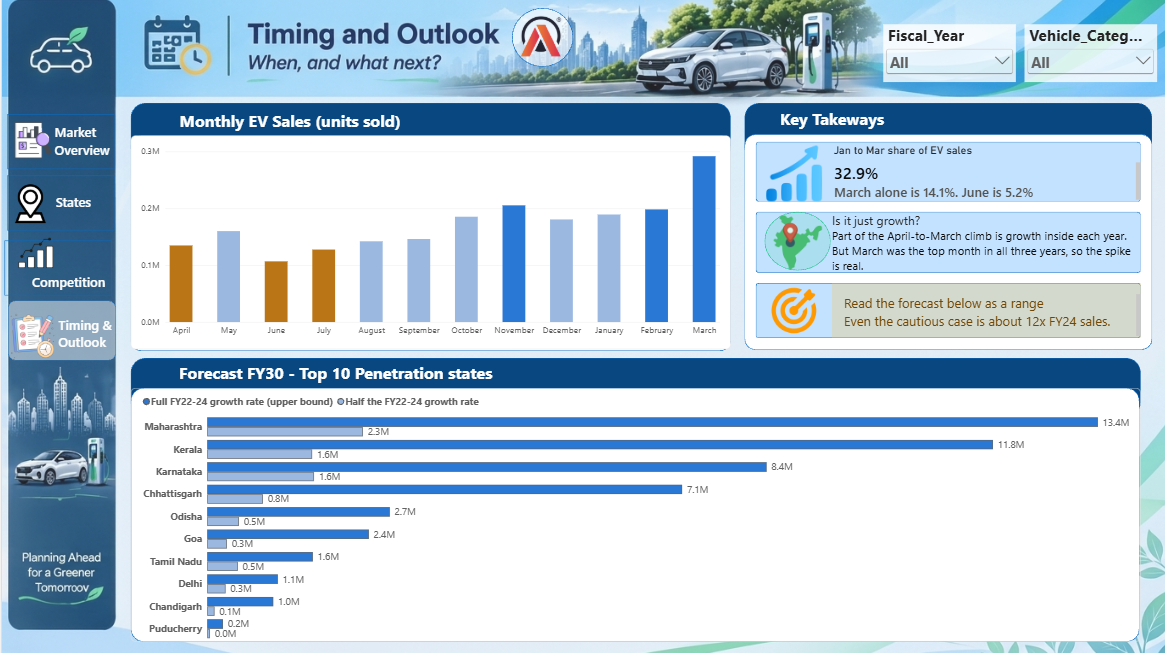

This screenshot's page, from the dashboard's own definition file:
{"tool":"powerbi","page":{"name":"Timing & Outlook","canvas":[1920,1080],"ordinal":8},"visuals":[{"type":"shape","box":[1222.6,172.9,671,96.7],"z":0},{"type":"shape","box":[212,592.8,1663.1,96.7],"z":1000},{"type":"shape","box":[212,172.9,988,96.7],"z":2000},{"type":"shape","box":[211.9,227.2,988.1,354.9],"z":3000},{"type":"columnChart","fields":{"Category":["dim_date.month name"],"Y":["key_measures.Ev_sales"]},"box":[212,226.4,988,352],"z":4000},{"type":"shape","box":[212,642.2,1661.1,417.8],"z":5000},{"type":"clusteredBarChart","title":"2030 EV sales, top 10 penetration states: two growth scenarios","fields":{"Category":["sales_by_state.state"],"Y":["key_measures.EV Forecast FY30","key_measures.EV Forecast FY30 (Conservative)"]},"box":[212,642.2,1663.1,417.8],"z":6000},{"type":"textbox","box":[197.6,183.2,553.7,47.3],"z":7000},{"type":"textbox","box":[209.9,599,679.2,47.3],"z":8000},{"type":"shape","box":[1223,224.7,671.5,354.9],"z":9000},{"type":"textbox","box":[1206.2,181.1,321.1,47.3],"z":10000},{"type":"shape","box":[1241.2,236.7,634,98.8],"z":11000},{"type":"shape","box":[1241.2,352,634,100.9],"z":12000},{"type":"shape","box":[1241.2,469.3,634,90.6],"z":13000},{"type":"image","box":[1241.2,475.5,125.6,78.2],"z":14000},{"type":"image","box":[1222.6,358.1,175,90.6],"z":15000},{"type":"shape","box":[1255.6,352,109.1,96.7],"z":16000},{"type":"image","box":[1243.4,242.6,122.6,91.9],"z":17000},{"type":"textbox","title":"Jan to Mar share of EV sales","box":[1364.7,234.6,510.5,98.8],"z":18000},{"type":"textbox","title":"Is it just growth?","box":[1366.7,352,504.3,100.9],"z":19000},{"type":"textbox","title":"Jan to Mar share of EV sales","box":[1366.7,469.3,508.4,90.6],"z":20000},{"type":"slicer","fields":{"Values":["dim_date.fiscal_year"]},"box":[1450.9,42.5,218.6,95.1],"z":21000},{"type":"slicer","fields":{"Values":["sales_by_state.vehicle_category"]},"box":[1683.6,42.5,218,95],"z":22000},{"type":"textbox","box":[86.1,205,121,78.3],"z":23000},{"type":"image","box":[9.6,203.2,81.9,60.5],"z":24000},{"type":"textbox","box":[89.3,322,92.5,57],"z":25000},{"type":"shape","box":[839.8,16.5,100.9,96.7],"z":26000,"group":"g1"},{"type":"image","box":[2.1,306,89,64.1],"z":26000},{"type":"image","box":[837.7,28.8,100.9,67.9],"z":27000,"group":"g1"},{"type":"textbox","box":[48.9,453.1,131.7,37],"z":27000},{"type":"image","box":[26.2,387.2,57.6,65.9],"z":28000},{"type":"textbox","box":[92.6,522.8,107,63.8],"z":29000},{"type":"image","box":[8.2,518.7,84.4,76.2],"z":30000},{"type":"shape","box":[10.3,498.1,177,98.8],"z":31000},{"type":"group","id":"g1","title":"Group 1","box":[837.7,16.5,102.9,96.7],"z":32000},{"type":"shape","box":[8.2,191.4,177,90.6],"z":33000},{"type":"shape","box":[8.2,292.3,177,90.6],"z":34000},{"type":"shape","box":[4.1,399.3,177,90.6],"z":35000}]}

Visuals, with their boxes on the page's 1920x1080 design canvas (x1, y1, x2, y2). These are canvas units, not pixel positions in the 1165x653 screenshot, which may show the page scaled, cropped or inside an application window:
shape: <bbox>1223, 173, 1894, 270</bbox>
shape: <bbox>212, 593, 1875, 690</bbox>
shape: <bbox>212, 173, 1200, 270</bbox>
shape: <bbox>212, 227, 1200, 582</bbox>
columnChart - dim_date.month name x key_measures.Ev_sales: <bbox>212, 226, 1200, 578</bbox>
shape: <bbox>212, 642, 1873, 1060</bbox>
"2030 EV sales, top 10 penetration states: two growth scenarios" clusteredBarChart: <bbox>212, 642, 1875, 1060</bbox>
textbox: <bbox>198, 183, 751, 230</bbox>
textbox: <bbox>210, 599, 889, 646</bbox>
shape: <bbox>1223, 225, 1894, 580</bbox>
textbox: <bbox>1206, 181, 1527, 228</bbox>
shape: <bbox>1241, 237, 1875, 336</bbox>
shape: <bbox>1241, 352, 1875, 453</bbox>
shape: <bbox>1241, 469, 1875, 560</bbox>
image: <bbox>1241, 476, 1367, 554</bbox>
image: <bbox>1223, 358, 1398, 449</bbox>
shape: <bbox>1256, 352, 1365, 449</bbox>
image: <bbox>1243, 243, 1366, 334</bbox>
"Jan to Mar share of EV sales" textbox: <bbox>1365, 235, 1875, 333</bbox>
"Is it just growth?" textbox: <bbox>1367, 352, 1871, 453</bbox>
"Jan to Mar share of EV sales" textbox: <bbox>1367, 469, 1875, 560</bbox>
slicer - dim_date.fiscal_year: <bbox>1451, 42, 1670, 138</bbox>
slicer - sales_by_state.vehicle_category: <bbox>1684, 42, 1902, 138</bbox>
textbox: <bbox>86, 205, 207, 283</bbox>
image: <bbox>10, 203, 92, 264</bbox>
textbox: <bbox>89, 322, 182, 379</bbox>
shape: <bbox>840, 16, 941, 113</bbox>
image: <bbox>2, 306, 91, 370</bbox>
image: <bbox>838, 29, 939, 97</bbox>
textbox: <bbox>49, 453, 181, 490</bbox>
image: <bbox>26, 387, 84, 453</bbox>
textbox: <bbox>93, 523, 200, 587</bbox>
image: <bbox>8, 519, 93, 595</bbox>
shape: <bbox>10, 498, 187, 597</bbox>
"Group 1" group: <bbox>838, 16, 941, 113</bbox>
shape: <bbox>8, 191, 185, 282</bbox>
shape: <bbox>8, 292, 185, 383</bbox>
shape: <bbox>4, 399, 181, 490</bbox>
